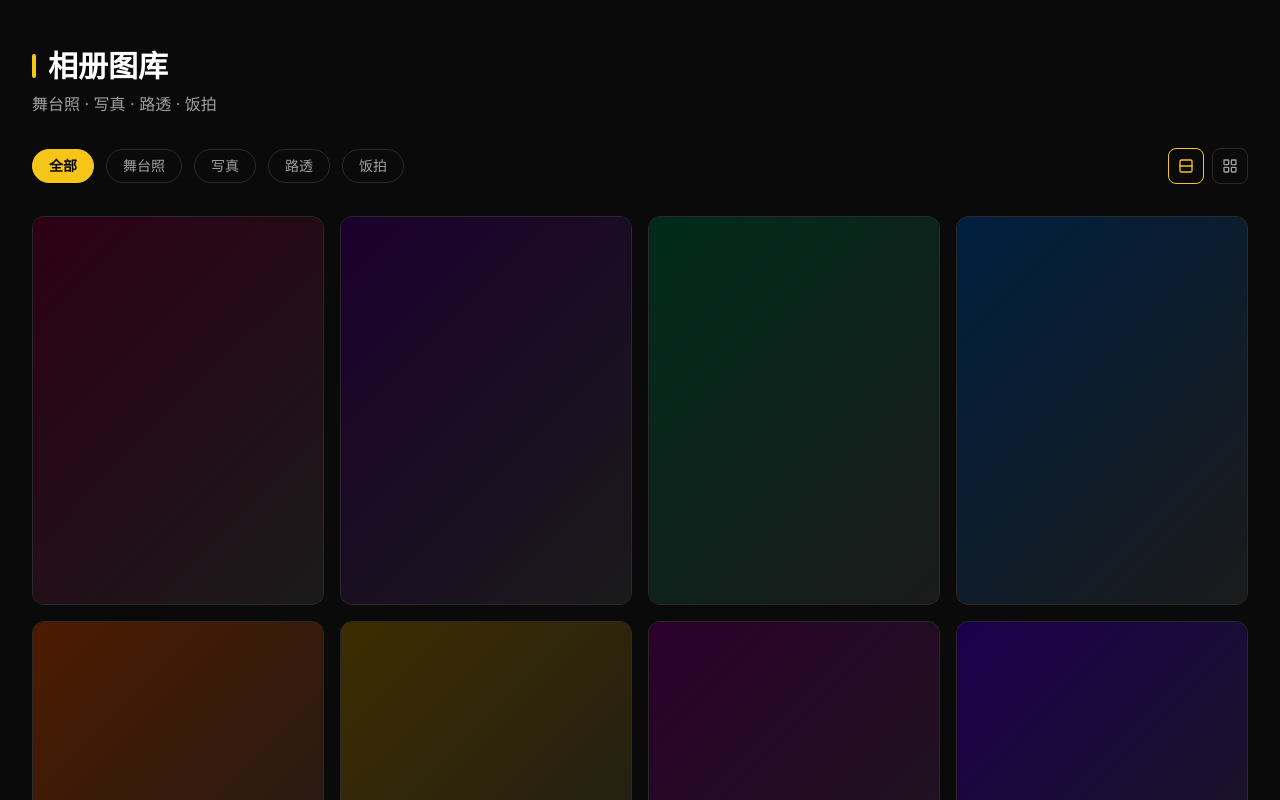
Test: 相册图库页 (Issue #11) › TC-04 点击图片打开灯箱
This screenshot has width=1280, height=800.
Step 1. Click the button with test id "gallery-photo-p-001" → {"x": 178, "y": 410}, box [32, 216, 324, 605]
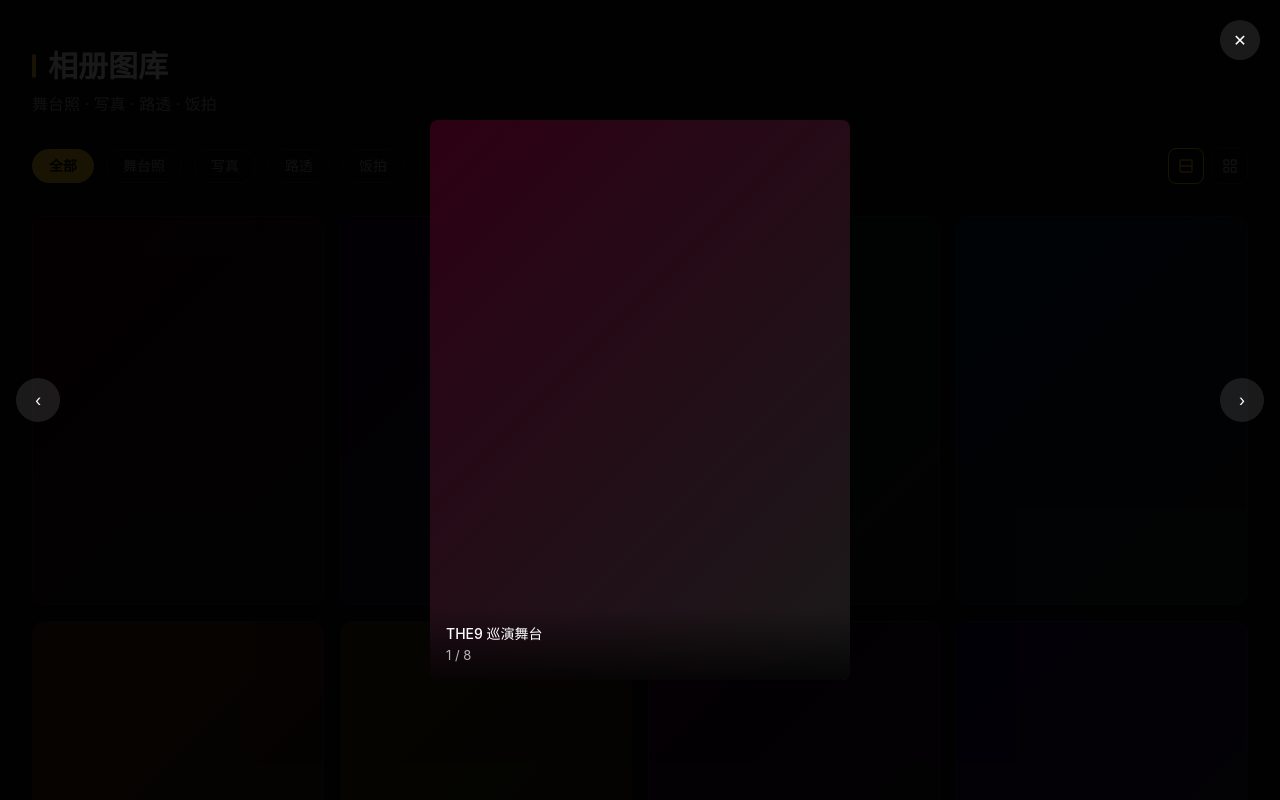
Now the dialog with test id "gallery-lightbox" is shown
Now the text "1 / 8" is shown, box [446, 647, 471, 663]
